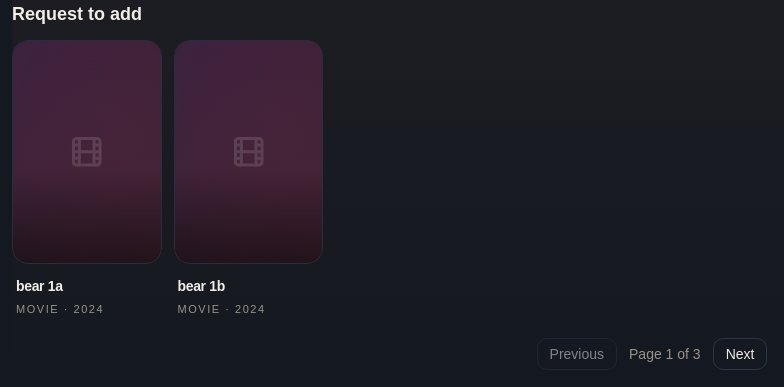
RequestToAddSection (grid variant) › pages through TMDB's results
The image size is (784, 387).
Expected: the navigation bar named "Request to add pages" shows "Page 1 of 3", [629,346,701,362]
Expected: the button "Previous" is disabled, [536,338,617,370]
What coordinates should you click on to do the following:
click the button "Next"
I would click on:
 (740, 354)
Its box is [713,338,767,370].
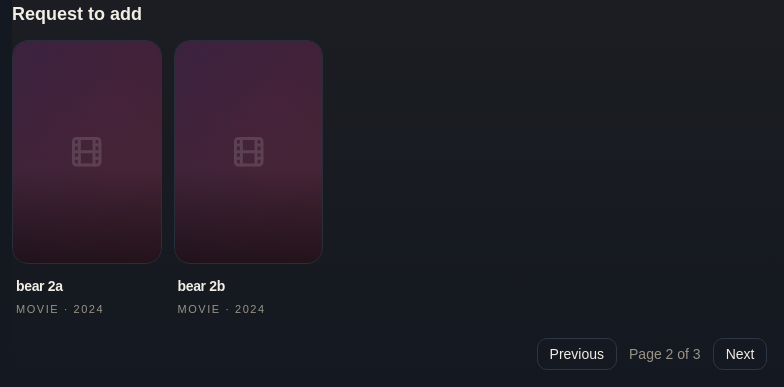
Expected: the link "bear 2a" is shown, [16,278,63,294]
Expected: the navigation bar named "Request to add pages" shows "Page 2 of 3", [629,346,701,362]
What coordinates should you click on to do the following:
click the button "Next"
I would click on:
 (740, 354)
Its box is [713,338,767,370].
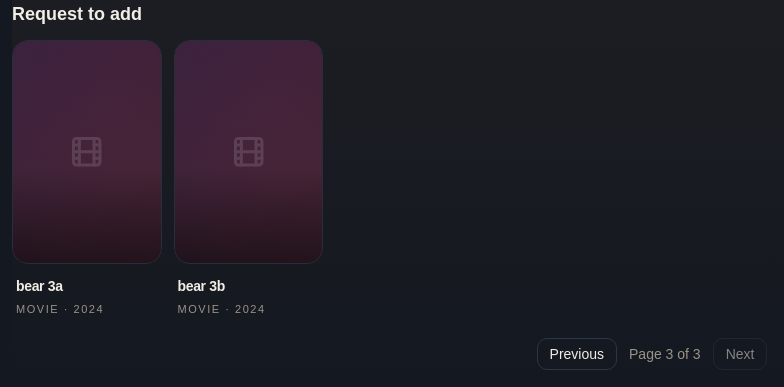
Expected: the button "Next" is disabled, [713,338,767,370]
